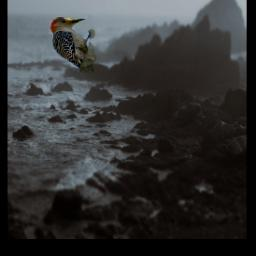Woodpecker: (41, 14, 97, 73)
